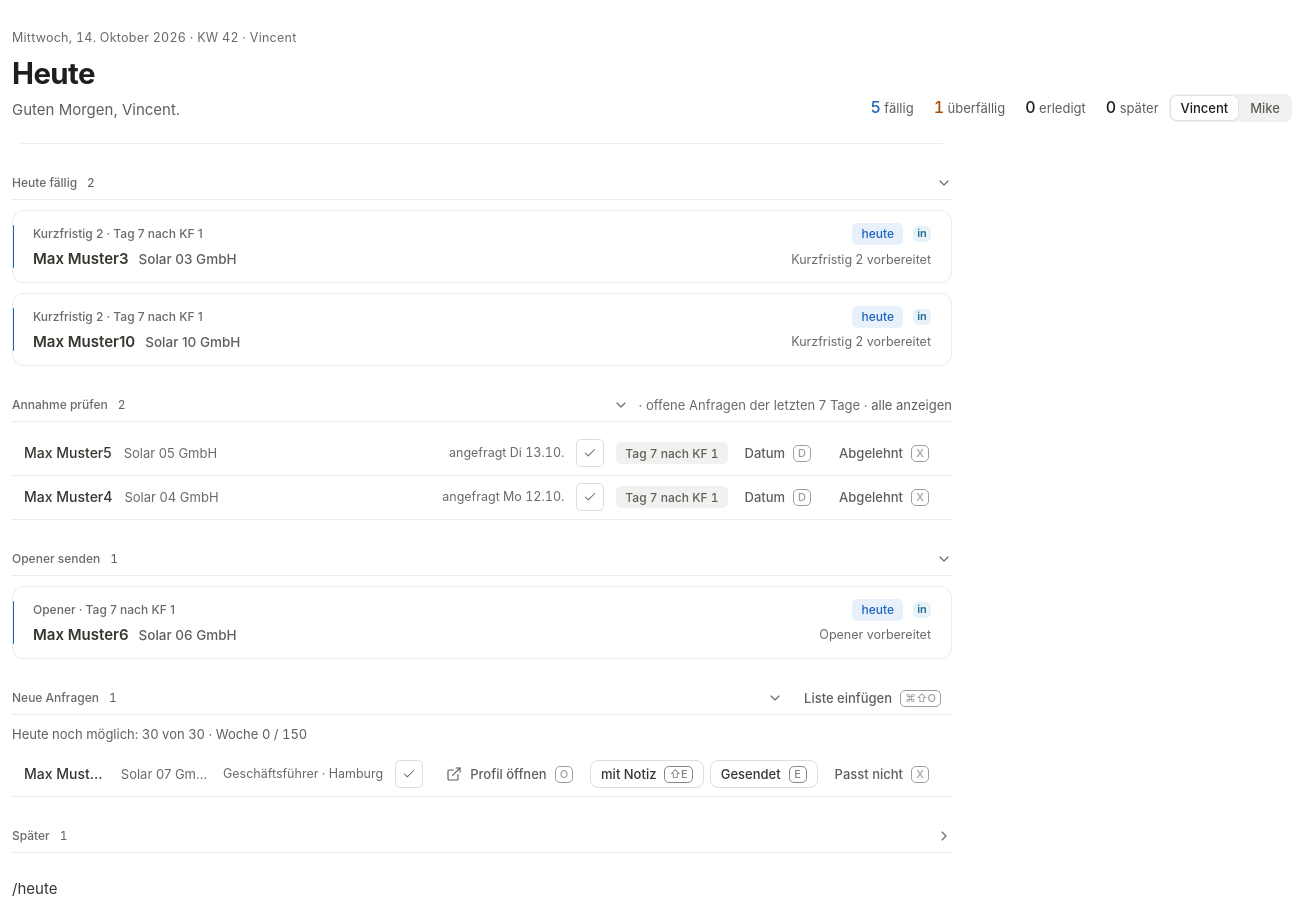
Test: HeuteSeite › H-11/H-12: Neue Anfragen – Kopf „Heute noch möglich“, E → log_request, danach „Liste abgearbeitet – 1 Anfrage gesendet.“
The image size is (1304, 900).
(page scrolled)
Click the text "Max Muster7": point(66, 774) [24, 765, 109, 783]
(page scrolled)
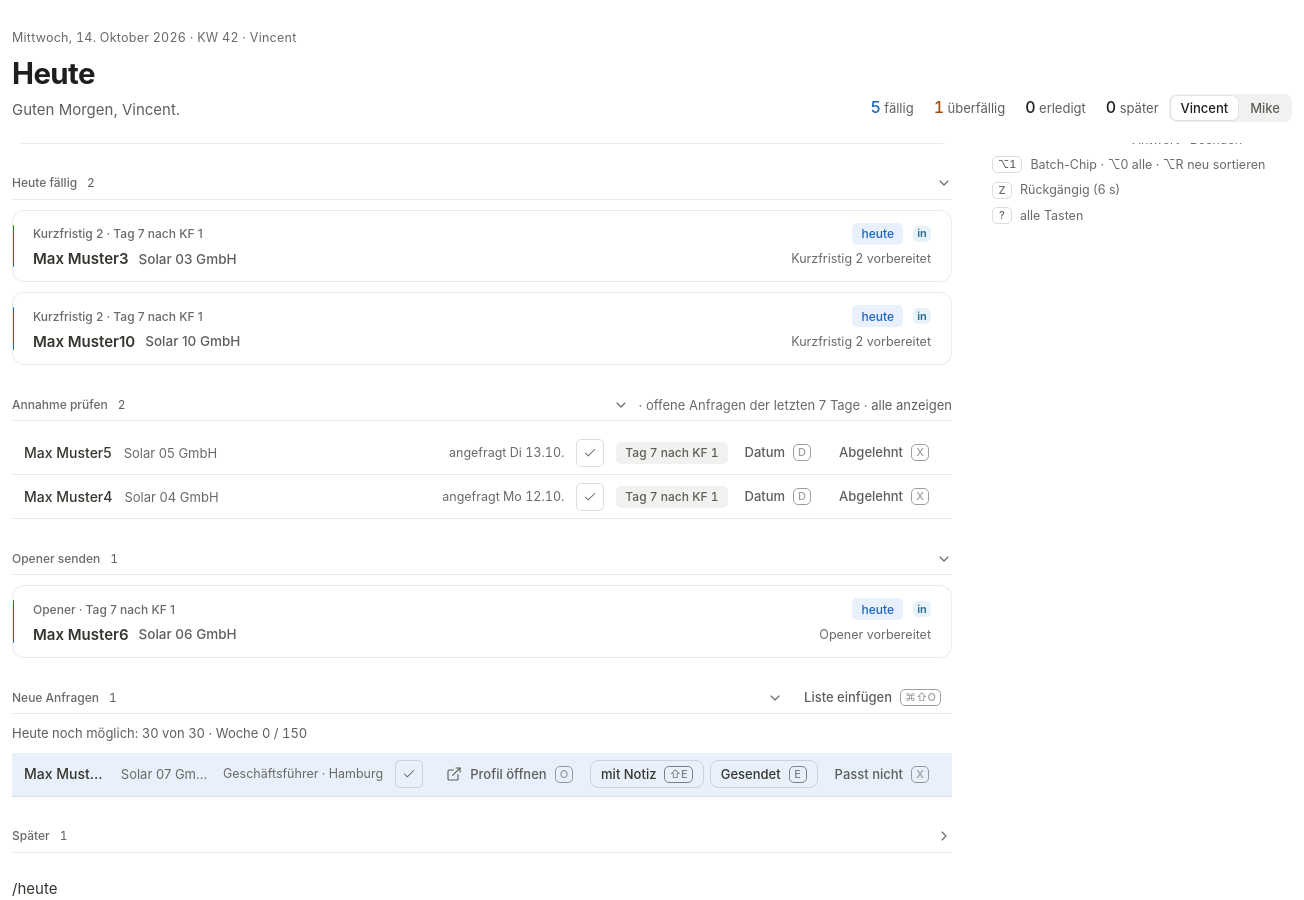
Press e
(page scrolled)
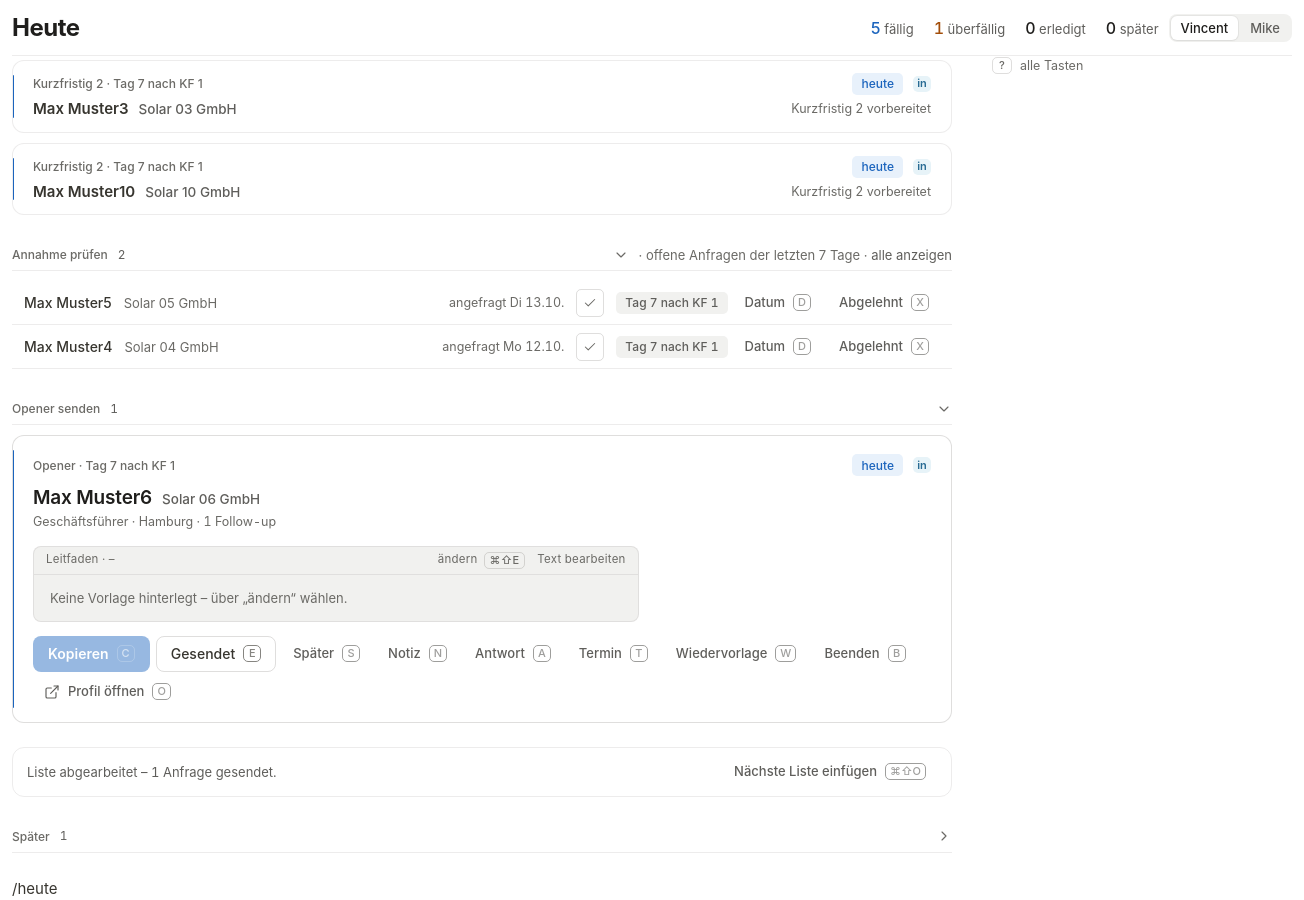
Check: the text "Liste abgearbeitet – 1 Anfrage gesendet." is shown, box [27, 764, 277, 780]
Check: the button "Nächste Liste einfügen ⌘⇧O" is shown, box [723, 758, 937, 786]
